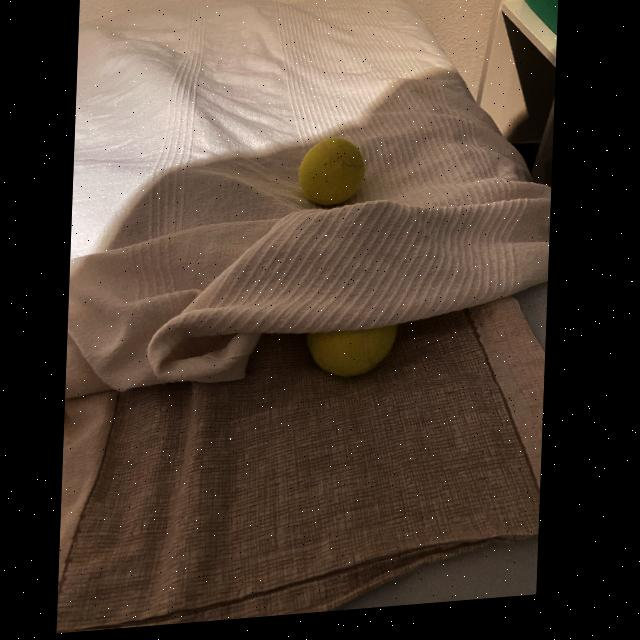Tennisball: (307, 325, 398, 377), (299, 138, 365, 206)
